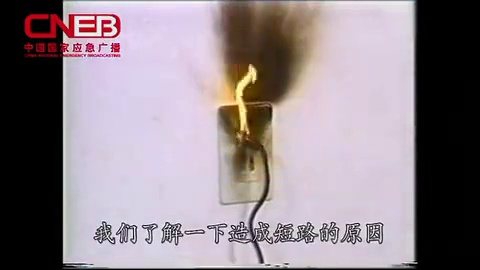fire: (222, 58, 261, 150)
